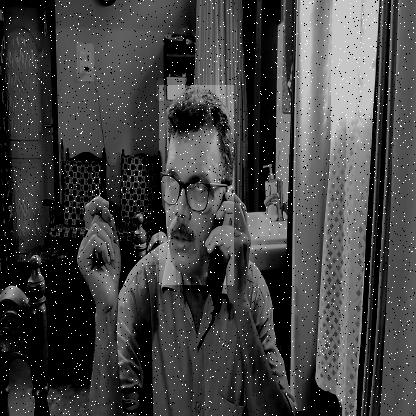Distracted: (159, 85, 234, 285)
